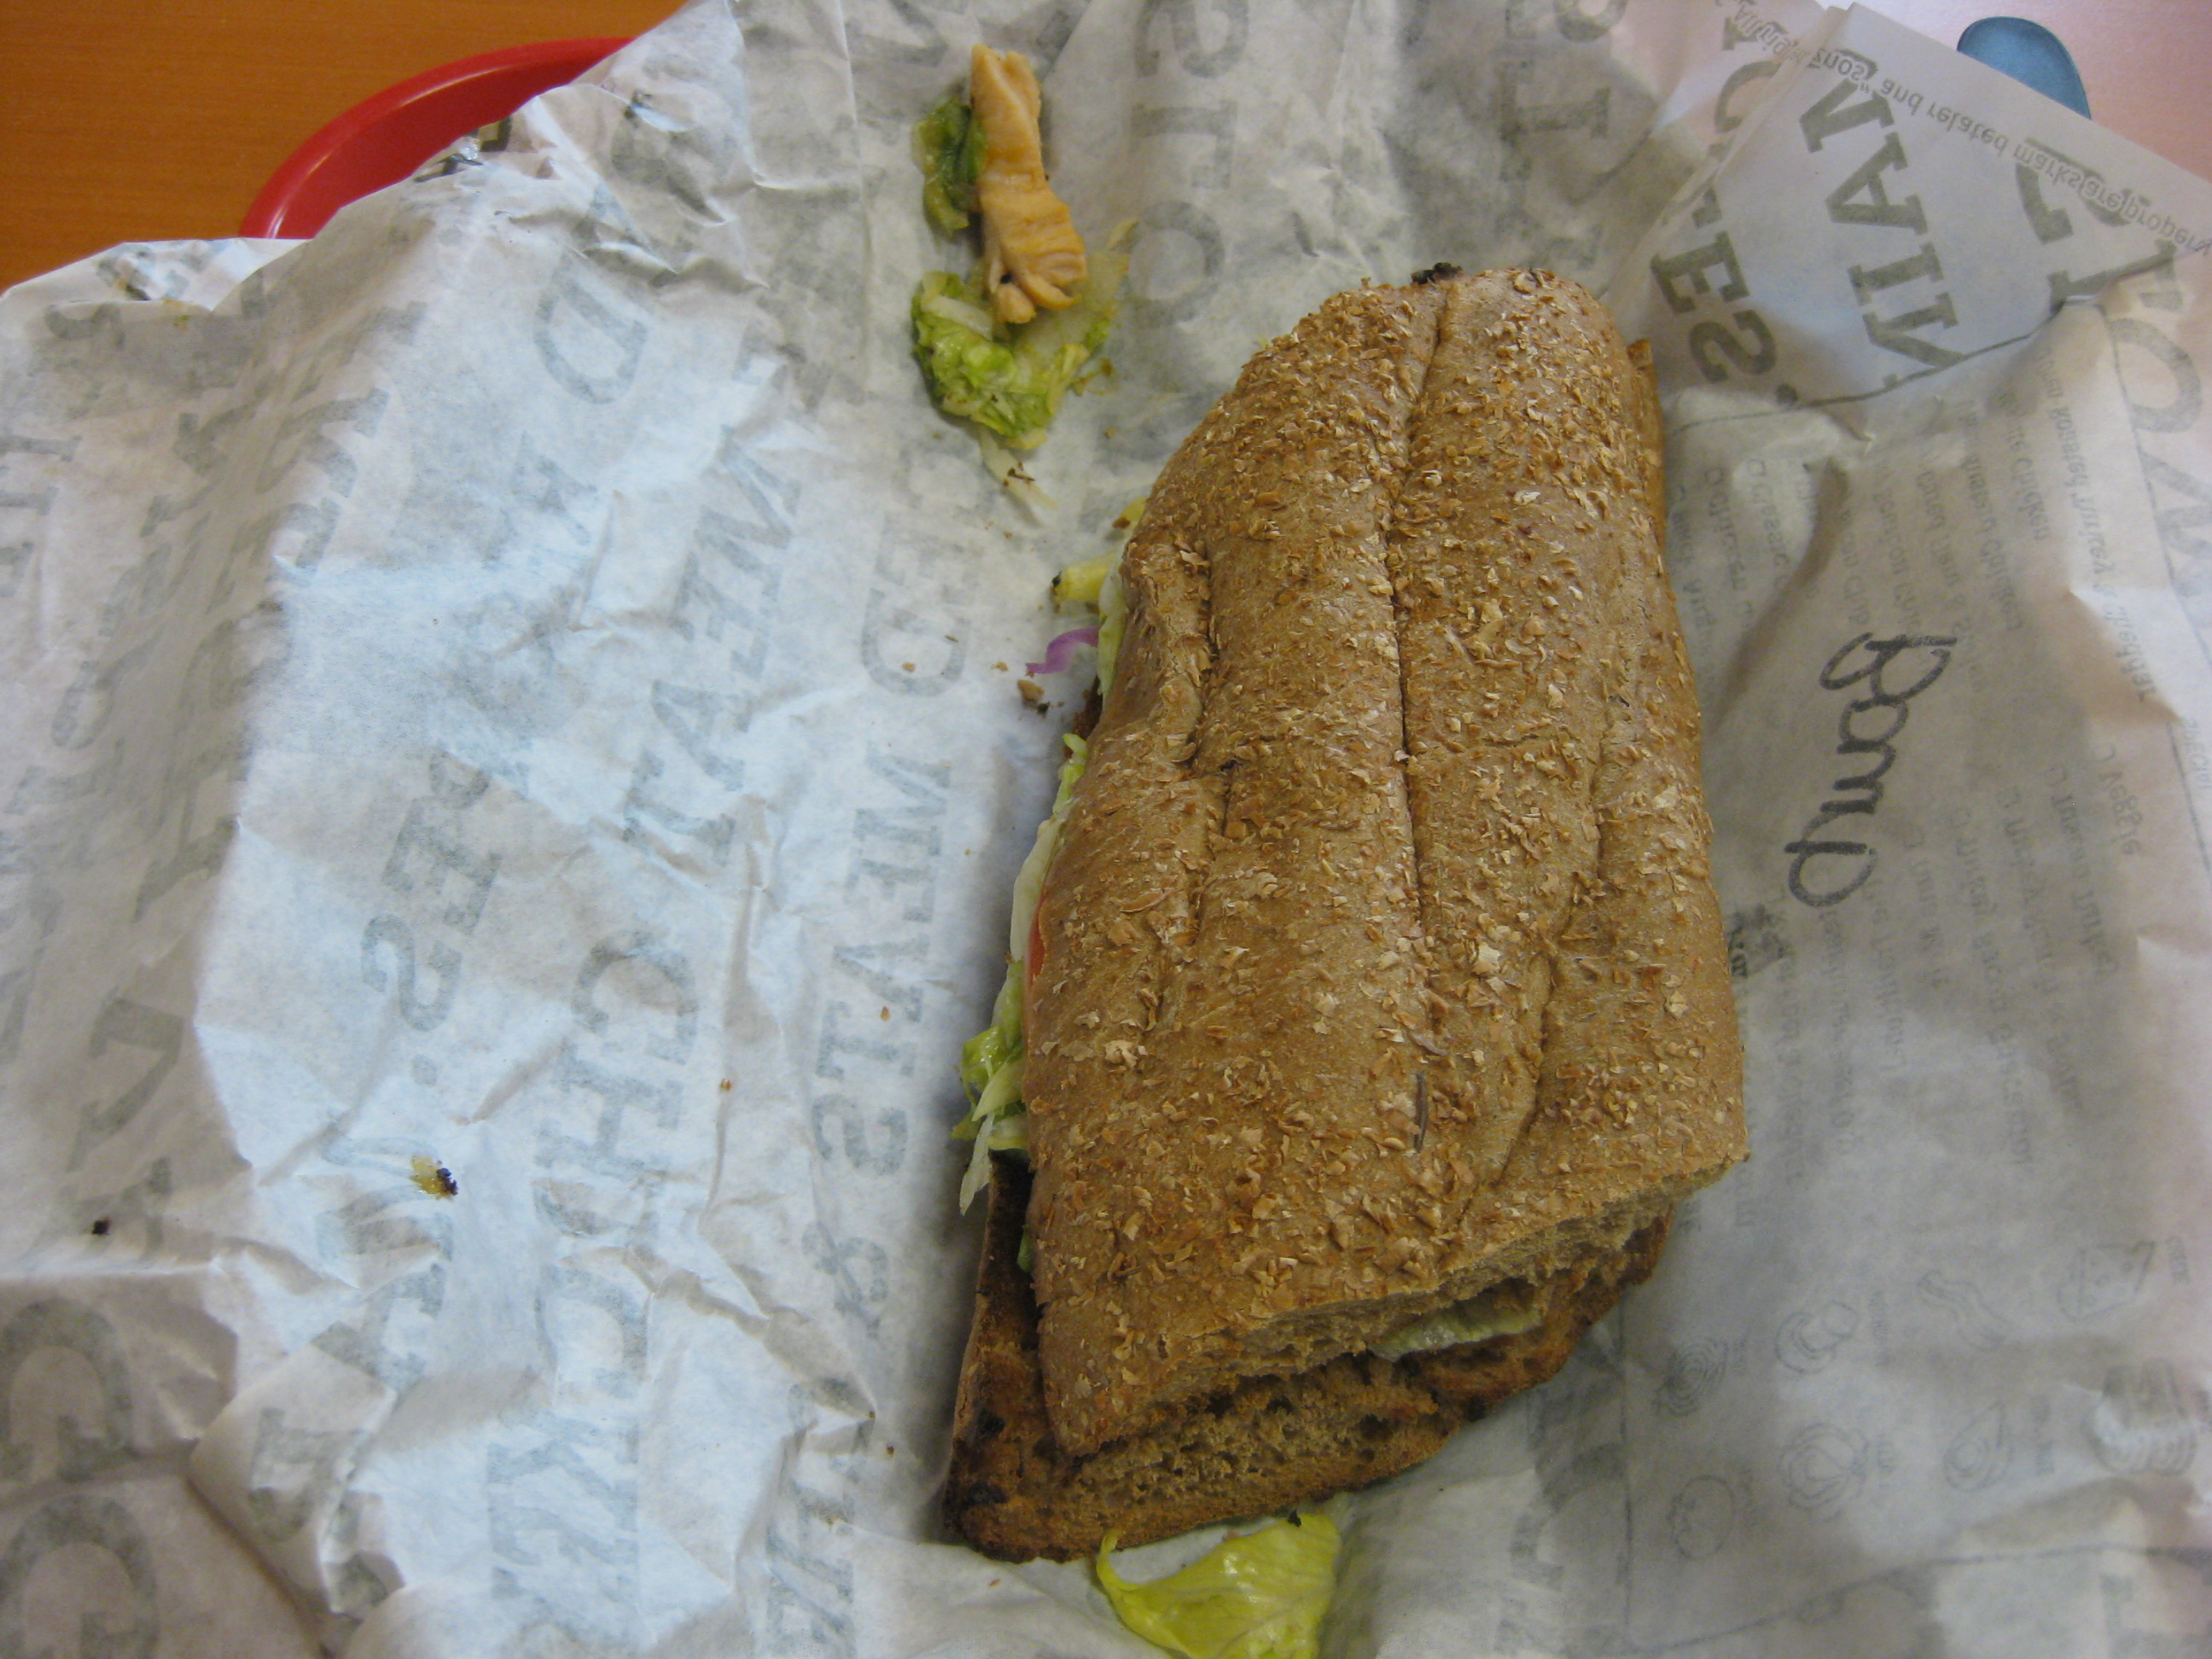sub: (932, 207, 1807, 1552)
